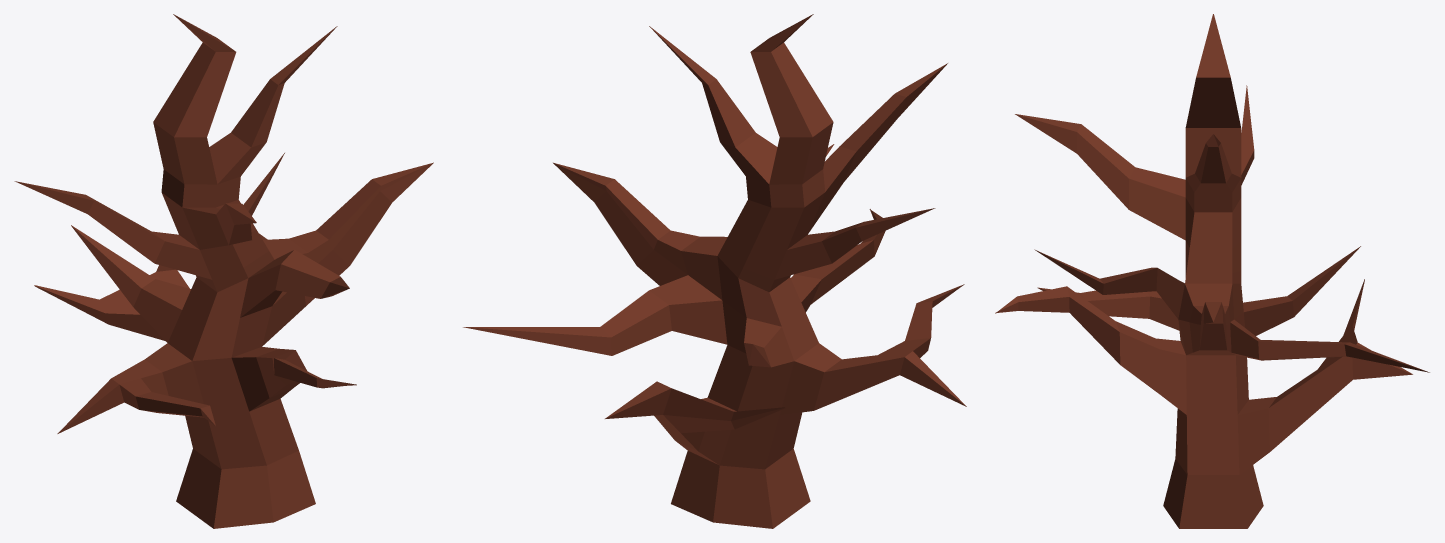
Rendered from tree2.fbx.
3 views of the same model, side by side, from view 1: azimuth 30°, elevation 25°; view 2: azimuth 150°, elevation 25°; view 3: azimuth 270°, elevation 25° (orthographic). The views are drawn at different scales.
Parts seen in each view (by area): view 1: Cube.001; view 2: Cube.001; view 3: Cube.001.
Part boxes in pixels (x1,y1,x2,y2): Cube.001: (14, 14, 433, 528); Cube.001: (463, 14, 966, 528); Cube.001: (995, 14, 1429, 528).
Bounding box in the file's own units: 604 × 728 × 625.
